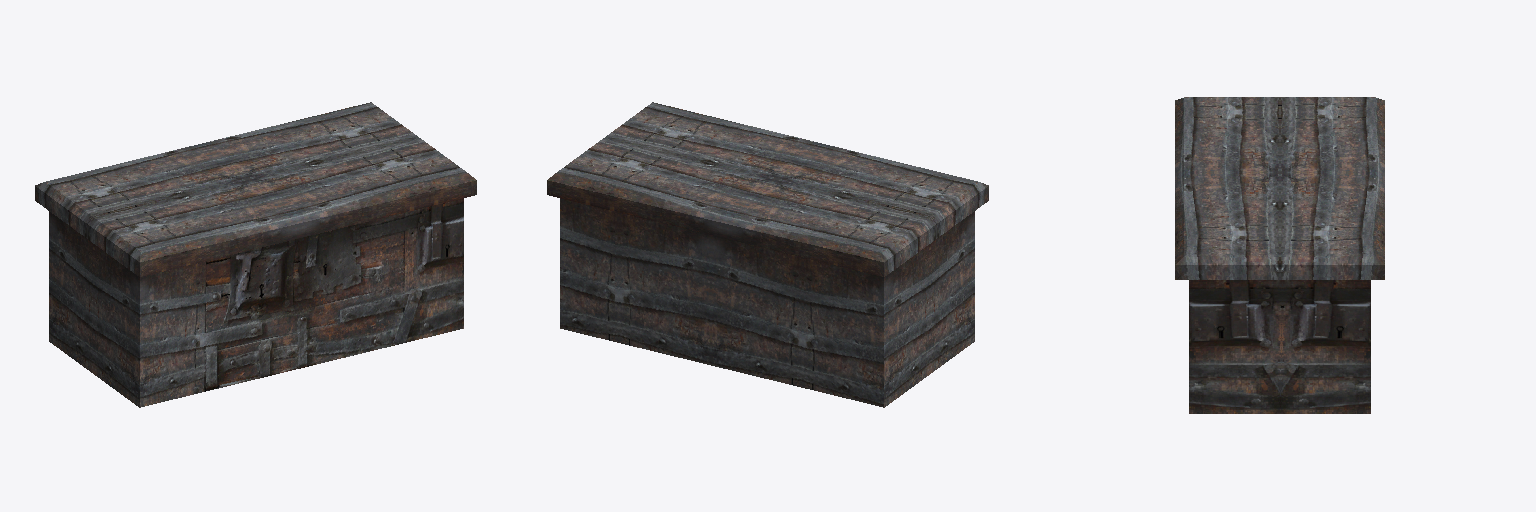
The picture shows the model from 3 angles: view 1: azimuth 30°, elevation 25°; view 2: azimuth 150°, elevation 25°; view 3: azimuth 270°, elevation 25°; orthographic projection.
Parts seen in each view (by area): view 1: Chest1; view 2: Chest1; view 3: Chest1.
Boxes of the visible parts, x1=… form: Chest1: x1=35, y1=102, x2=476, y2=407; Chest1: x1=547, y1=102, x2=988, y2=407; Chest1: x1=1175, y1=97, x2=1384, y2=413.
Bounding box in the file's own units: 1.35 × 0.6036 × 0.7264.
1 materials, 1 textured.